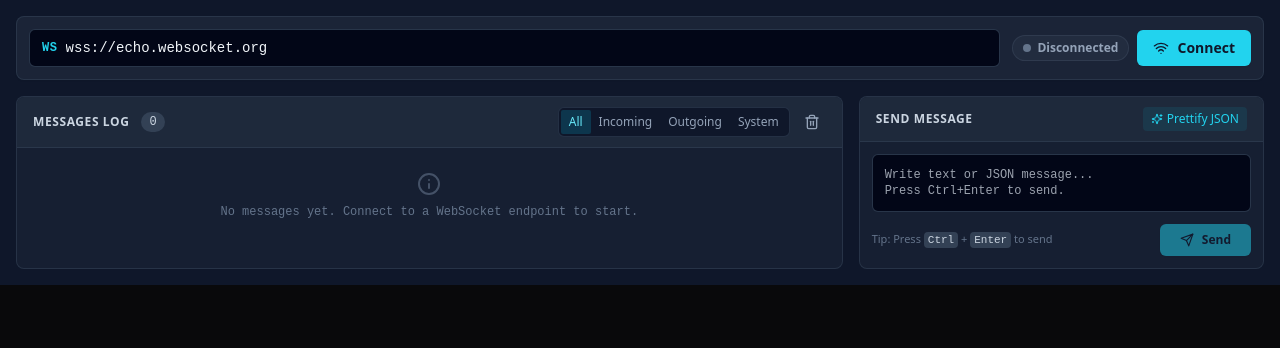
Scenario: WebSocketPanel › shows error message if attempting to prettify invalid JSON
(page scrolled)
In the text box with placeholder "Write text or JSON message... Press Ctrl+Enter to send.": (1061, 183) x1=872 y1=154 x2=1251 y2=212, type "invalid json text"
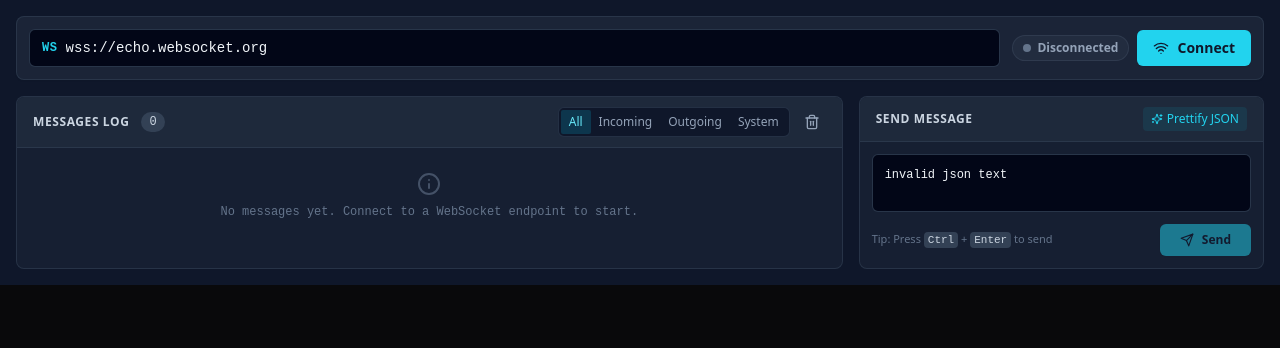
Click the button "Prettify JSON": (1195, 119) x1=1143 y1=107 x2=1247 y2=131
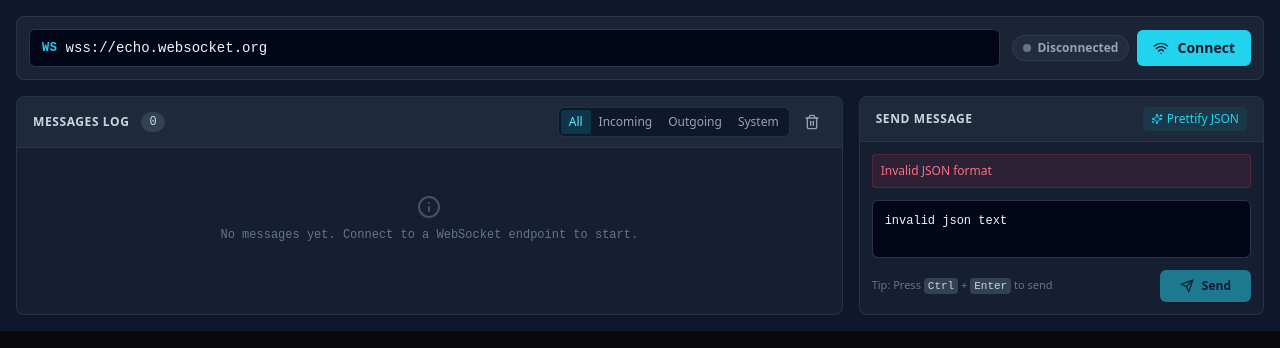
Check: the text "Invalid JSON format" is shown, box x1=872 y1=154 x2=1251 y2=188
